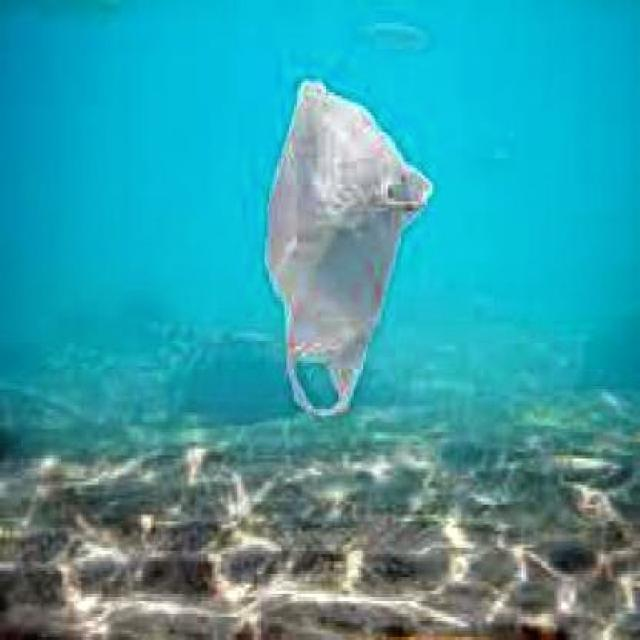pbag: (264, 76, 436, 416)
